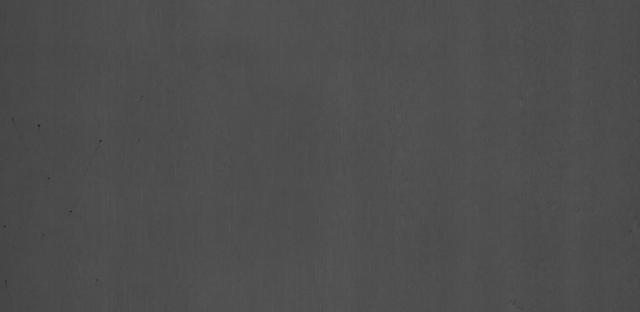inclusion: (26, 110, 51, 141), (89, 130, 109, 156)
